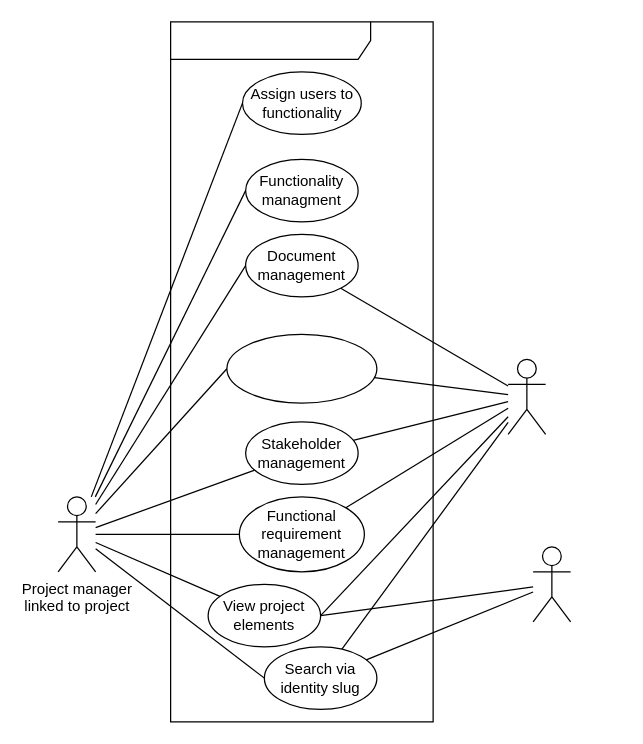
Some shapes in this 643 by 744 pixel diagram are drawn without their labels. The box of each missing label's shape, as (x1, y1, x2, y2) in pixels:
Non functional requirement management: (226, 333, 377, 403)
Requirement engineer linked to functionality: (507, 358, 546, 434)
Stakeholder user linked to functionality: (532, 546, 571, 622)
System: (169, 21, 433, 722)
